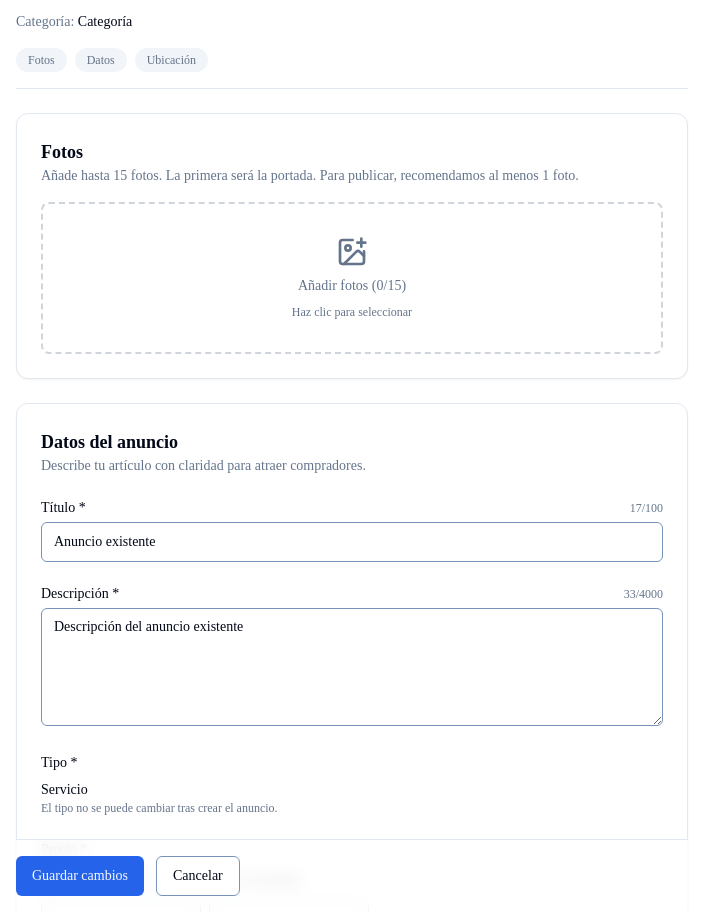
it: UXV.5 (A4) — cambiar un campo ya no cuesta cinco pantallas › hay «Cancelar», y avisa de que quedan cambios sin guardar
Expected: the button with test id "cancelar-edicion" is shown, [156,856,240,896]
Replace the text in the field with id "title" with "Otro título" at [352, 542], box [41,522,663,562]
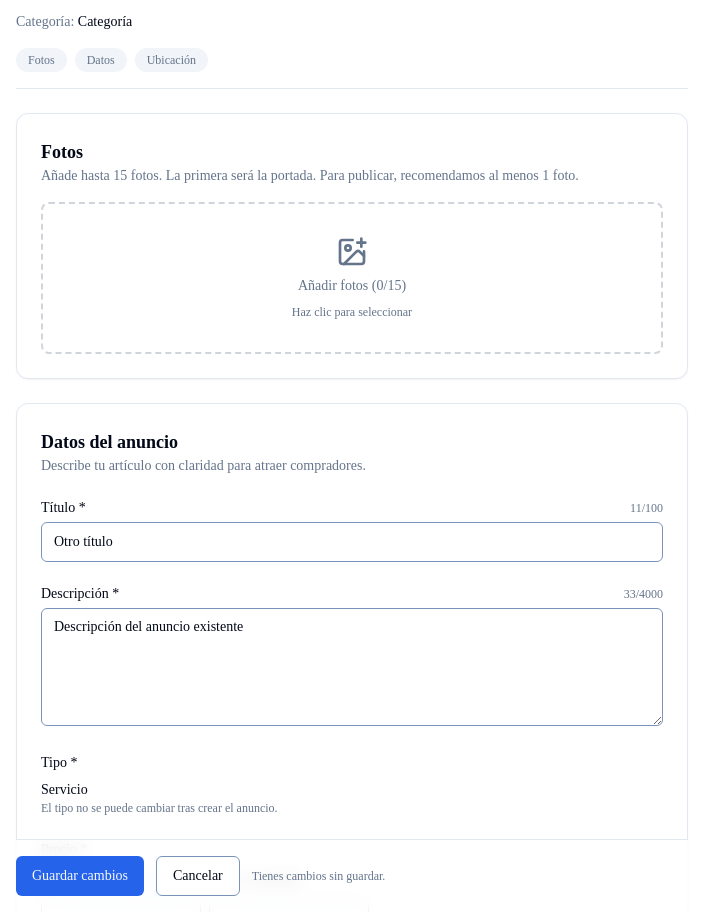
Now the text "Tienes cambios sin guardar." is shown, box [252,868,385,884]
